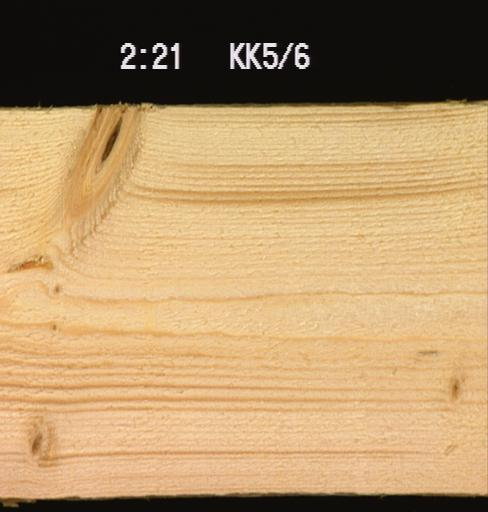small_knot: (439, 369, 475, 403), (38, 315, 70, 339)
sound_knot: (13, 420, 63, 468)
